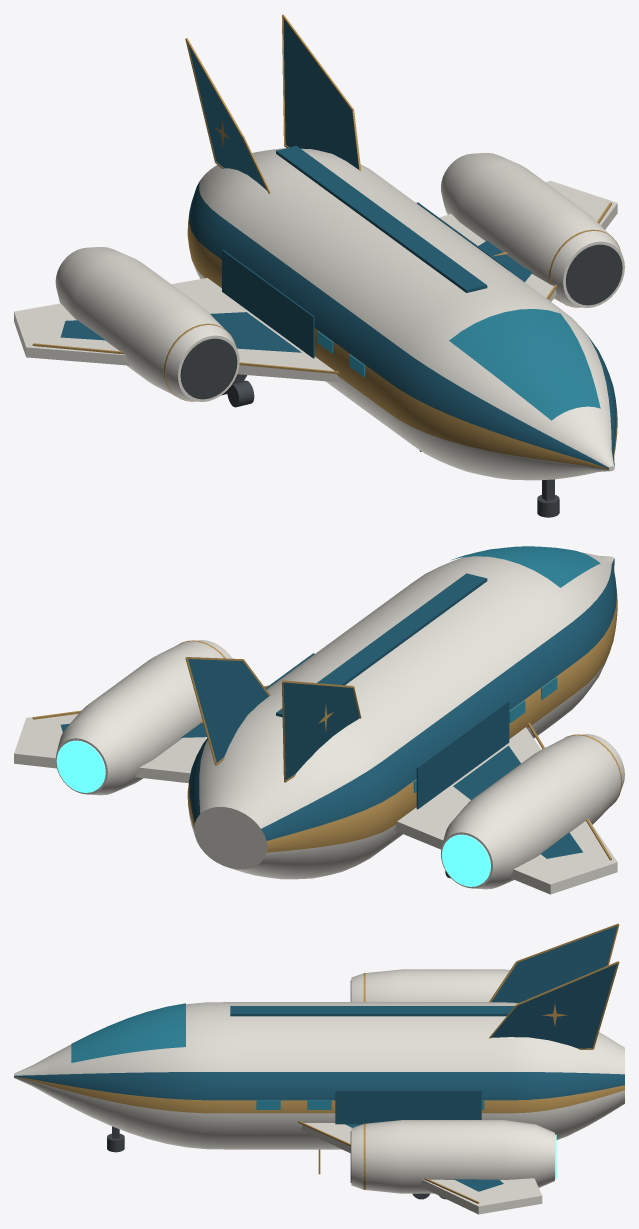
Rendered from Cargo.glb.
3 renders of one model, top to bottom at view 1: azimuth 30°, elevation 25°; view 2: azimuth 150°, elevation 25°; view 3: azimuth 270°, elevation 25°, orthographic. The views are drawn at different scales.
Parts seen in each view (by area): view 1: GW Ivory, GW Teal, GW Glass Dark, GW Gold, GW Metal; view 2: GW Ivory, GW Teal, GW Gold, GW Light, GW Glass Dark; view 3: GW Ivory, GW Teal, GW Gold, GW Glass Dark, GW Metal.
Boxes of the visible parts, box(x1,y1,x2,y2) form: GW Ivory: box(14, 148, 624, 480); GW Teal: box(60, 18, 616, 468); GW Glass Dark: box(317, 309, 600, 420); GW Gold: box(32, 14, 620, 469); GW Metal: box(180, 244, 622, 517); GW Ivory: box(14, 552, 624, 894); GW Teal: box(60, 558, 616, 858); GW Gold: box(32, 562, 622, 860); GW Light: box(56, 740, 490, 886); GW Glass Dark: box(413, 546, 600, 792); GW Ivory: box(14, 969, 624, 1214); GW Teal: box(14, 926, 624, 1191); GW Gold: box(14, 923, 624, 1203); GW Glass Dark: box(71, 1003, 484, 1109); GW Metal: box(107, 980, 445, 1199).
Bounding box in the file's own units: 112 × 52.13 × 125.
